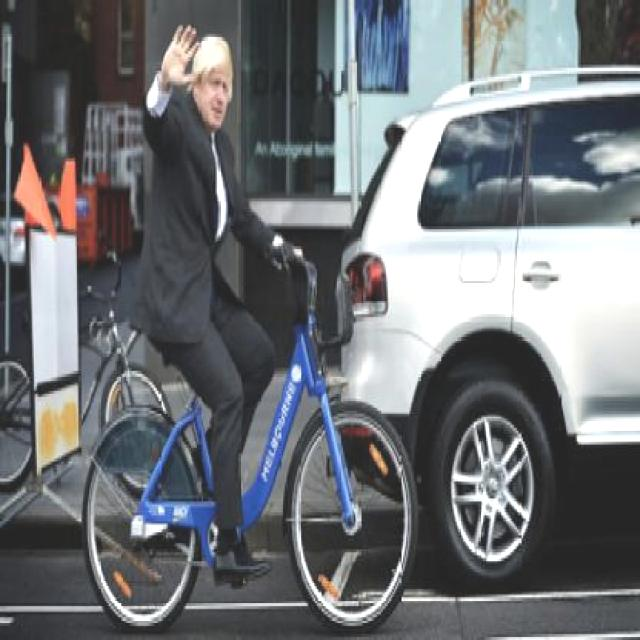Without Helmet: (188, 26, 240, 140)
